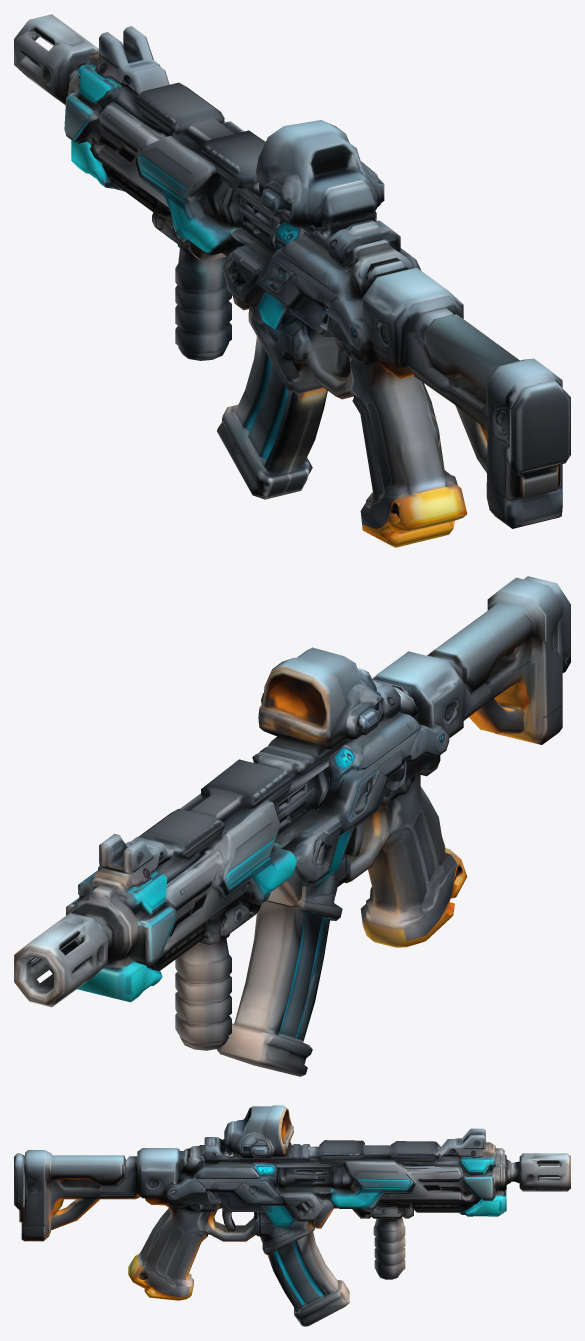
Rendered from rifle_raw.fbx.
3 views of the same model, one above another, from view 1: azimuth 30°, elevation 25°; view 2: azimuth 150°, elevation 25°; view 3: azimuth 270°, elevation 25° (orthographic). The views are drawn at different scales.
Parts seen in each view (by area): view 1: tripo_node_e30df5ce-e724-422e-a2cb-a29827bcf266; view 2: tripo_node_e30df5ce-e724-422e-a2cb-a29827bcf266; view 3: tripo_node_e30df5ce-e724-422e-a2cb-a29827bcf266.
Part boxes in pixels (x1,y1,x2,y2): tripo_node_e30df5ce-e724-422e-a2cb-a29827bcf266: (14,14,570,547); tripo_node_e30df5ce-e724-422e-a2cb-a29827bcf266: (14,576,570,1076); tripo_node_e30df5ce-e724-422e-a2cb-a29827bcf266: (14,1105,570,1326).
Size of the model in its own units: 0.1207 by 0.4118 by 0.9787.
1 material, 1 textured.
